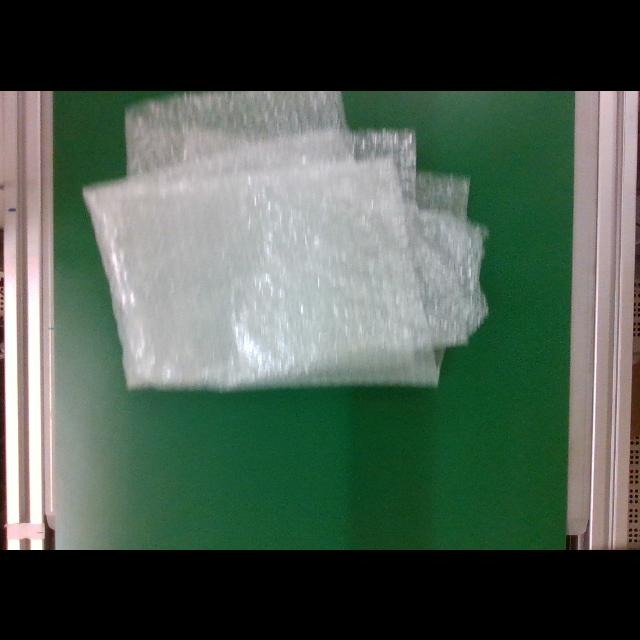scrap_plastic: (77, 92, 490, 394)
